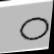no answer: (15, 15, 51, 45)
